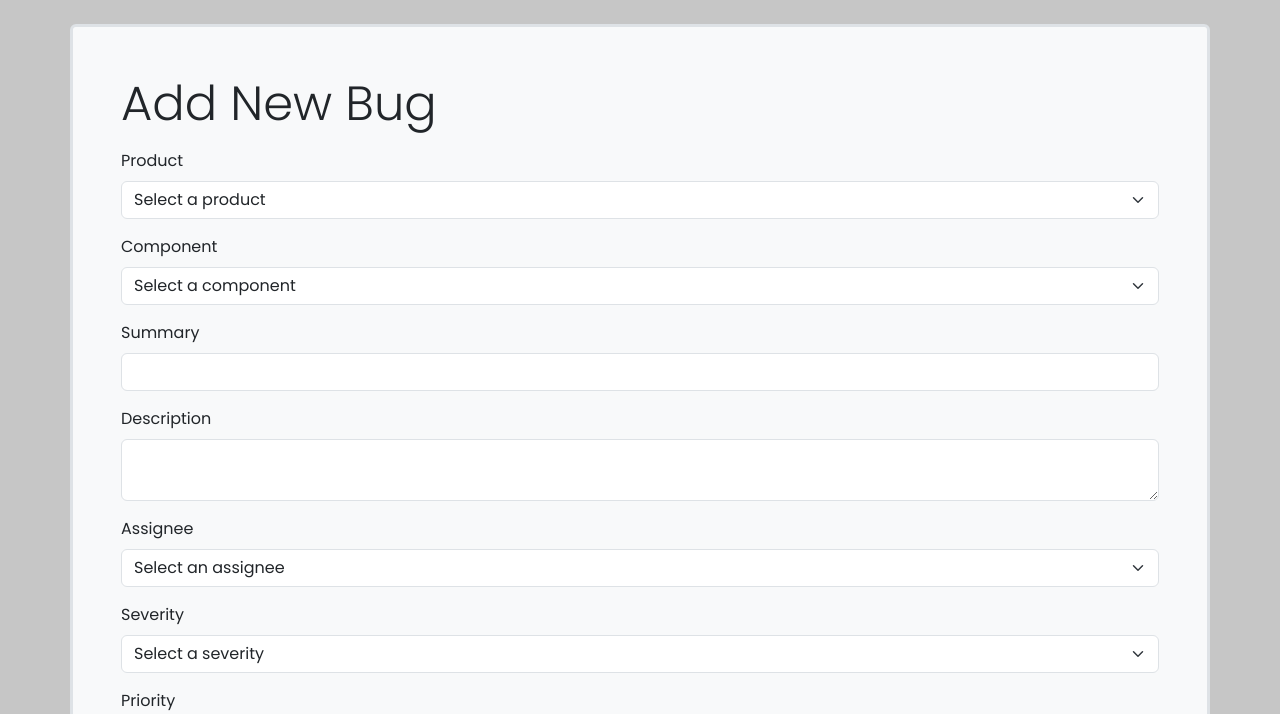
Scenario: AddEditBug › shows error alert when create fails
In the field labelled "Summary": [640, 372] box [121, 353, 1159, 391], type "Bad"
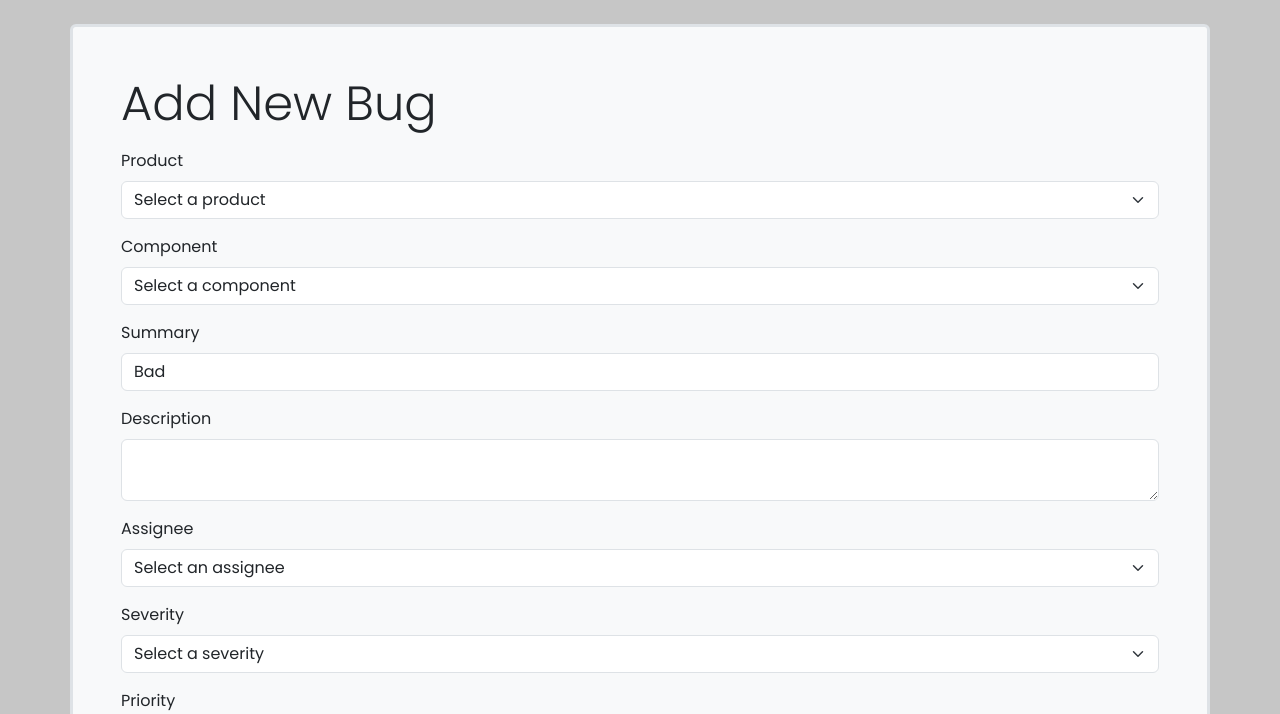
In the text box labelled "Description": [640, 470] box [121, 439, 1159, 501], type "Will fail"
(page scrolled)
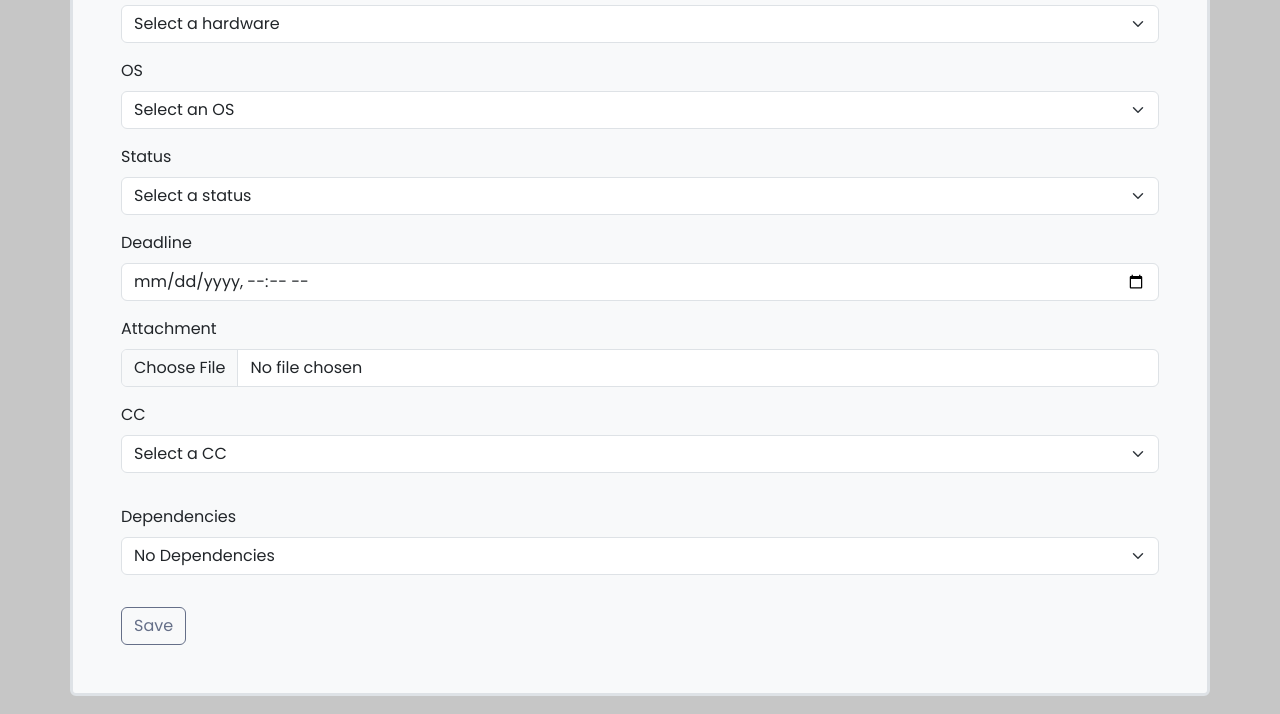
Click the button "Save": [154, 626] box [121, 607, 186, 645]
(page scrolled)
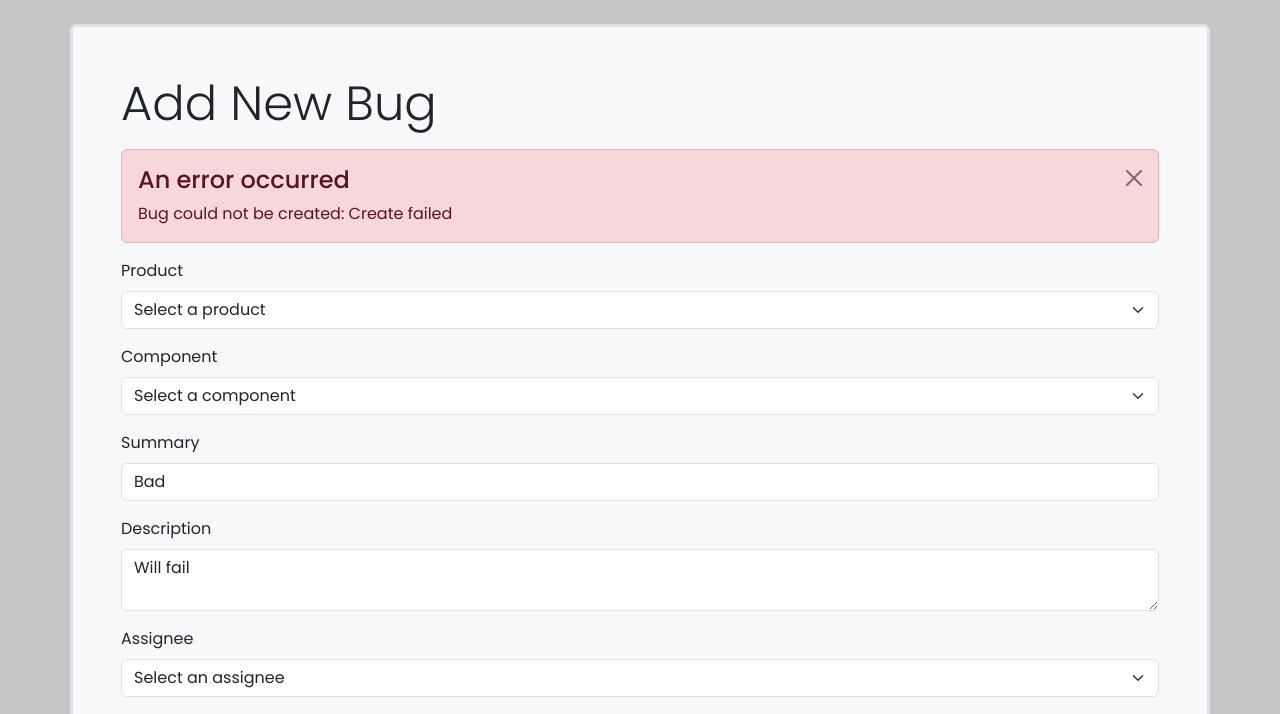
Expected: the text "An error occurred Bug could not be created: Create failed" is shown, [121, 149, 1159, 243]
